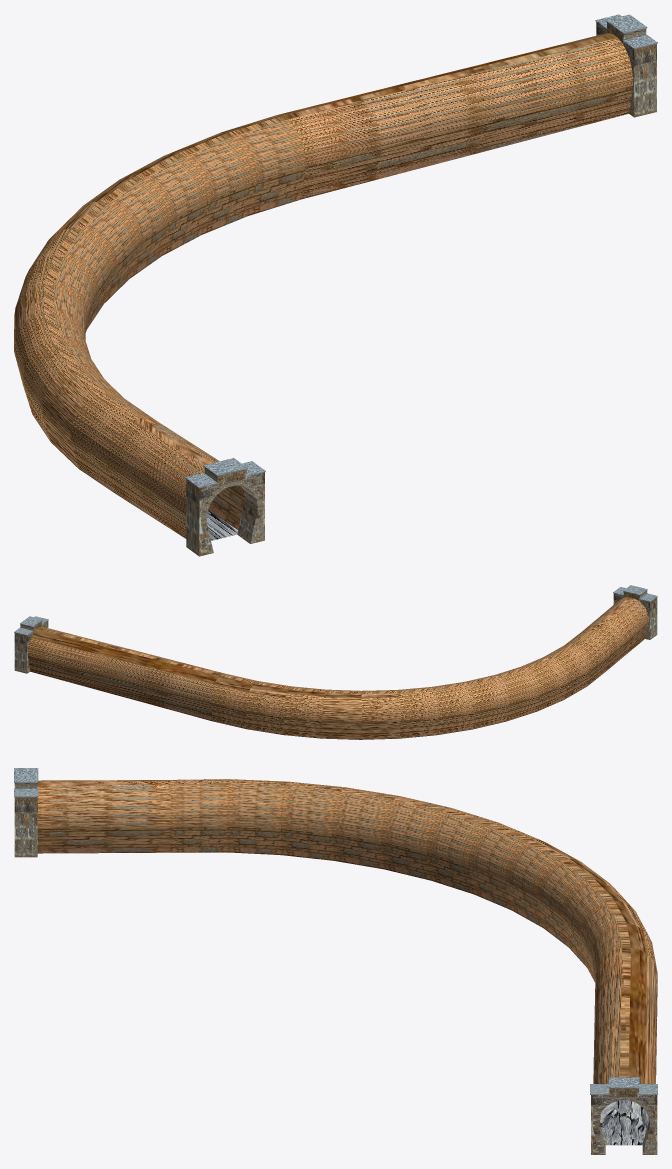
File: GMLID_BUI142242_863_347.gltf
3 views of the same model, one above another, from view 1: azimuth 30°, elevation 25°; view 2: azimuth 150°, elevation 25°; view 3: azimuth 270°, elevation 25° (orthographic). The views are drawn at different scales.
Parts seen in each view (by area): view 1: Z_UP; view 2: Z_UP; view 3: Z_UP.
Boxes of the visible parts, box(x1,y1,x2,y2) form: Z_UP: box(14, 14, 657, 556); Z_UP: box(14, 585, 657, 739); Z_UP: box(14, 768, 657, 1154).
Size of the model in its own units: 130 by 14.61 by 105.
4 materials, 4 textured.
